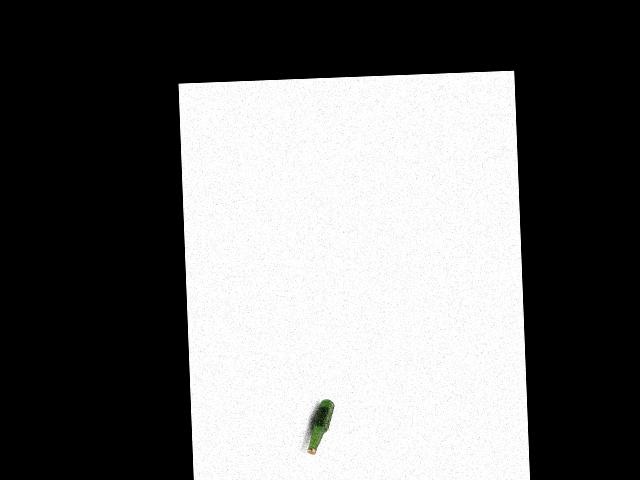beer: (304, 398, 335, 455)
